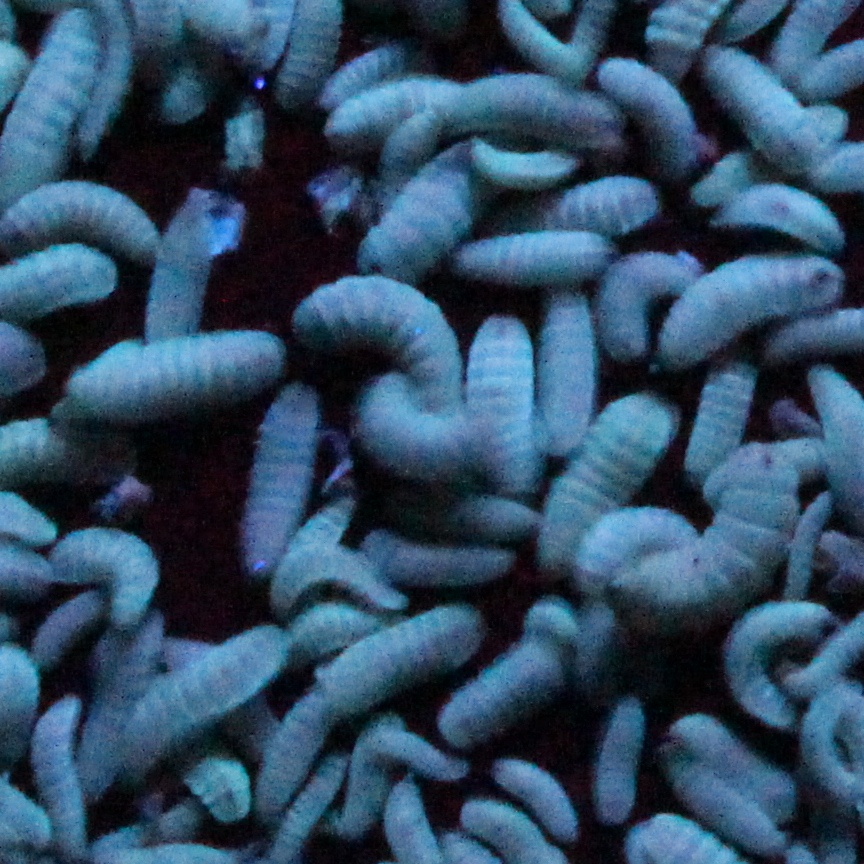larve: (608, 453, 795, 609), (293, 272, 479, 420), (117, 625, 288, 777), (555, 390, 677, 568), (657, 263, 850, 372), (69, 330, 283, 408), (239, 382, 322, 572), (322, 611, 489, 704), (702, 49, 836, 163), (445, 73, 622, 158), (469, 313, 543, 497), (664, 749, 791, 856), (720, 601, 822, 728), (441, 640, 567, 739), (48, 523, 169, 622), (676, 718, 793, 818), (600, 58, 689, 177), (717, 177, 841, 249), (322, 77, 451, 142), (458, 235, 619, 285), (365, 532, 517, 584), (274, 753, 348, 856), (495, 758, 577, 840), (595, 696, 646, 820), (316, 45, 403, 101)
